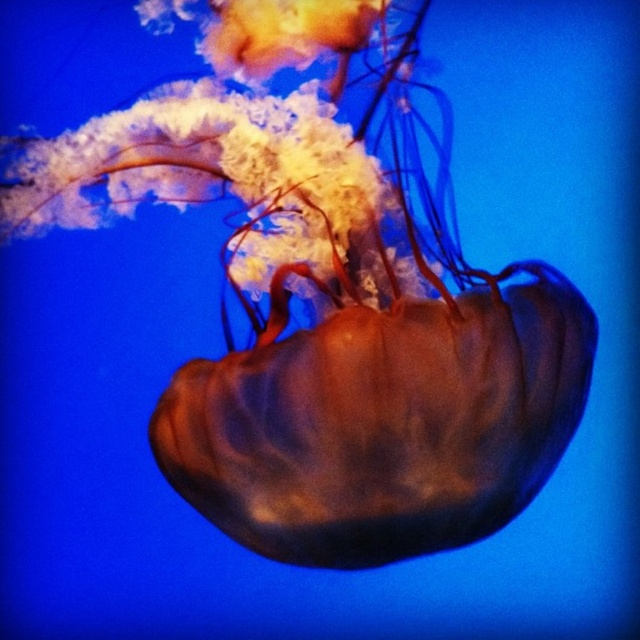Jellyfish: (31, 25, 610, 577)
